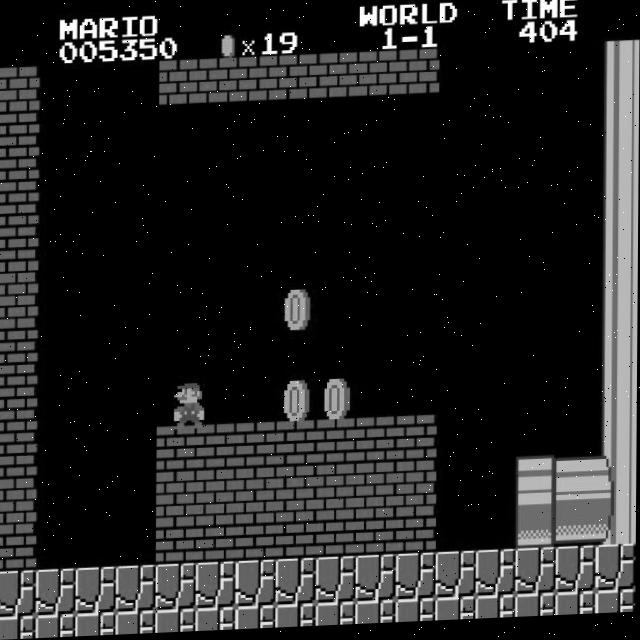1- brick_block: (236, 470, 278, 518), (316, 467, 358, 515), (156, 473, 198, 520), (196, 472, 238, 519), (276, 469, 318, 516), (356, 466, 398, 513), (396, 465, 438, 512), (159, 61, 200, 109), (156, 518, 197, 566), (199, 60, 240, 108), (196, 517, 237, 565), (279, 57, 320, 105), (276, 514, 317, 562), (399, 53, 440, 101), (396, 510, 437, 558), (157, 427, 198, 474), (197, 426, 238, 473), (239, 59, 280, 106), (236, 516, 277, 563), (277, 423, 318, 470), (319, 56, 360, 103), (316, 513, 357, 560), (359, 55, 400, 102), (356, 512, 397, 559), (397, 419, 438, 466), (237, 425, 278, 471), (317, 422, 358, 468), (357, 421, 398, 467), (0, 67, 40, 114), (0, 204, 39, 251), (0, 250, 39, 297), (0, 113, 39, 159), (0, 159, 39, 205), (0, 341, 38, 388), (0, 387, 38, 434), (0, 296, 38, 342), (0, 524, 37, 571), (0, 433, 37, 479), (0, 479, 37, 525)
11- little_mario: (167, 382, 211, 431)
14- pipe: (556, 459, 598, 506), (598, 46, 640, 93), (597, 229, 639, 276), (596, 366, 638, 413), (556, 505, 597, 552), (598, 183, 639, 230), (597, 320, 638, 367), (596, 503, 637, 550), (598, 92, 639, 138), (598, 138, 639, 184), (597, 275, 638, 321), (596, 412, 637, 458), (596, 458, 637, 504)
15- pipe_head: (516, 460, 558, 508), (516, 506, 557, 553)
17- undestructible_block: (595, 549, 637, 596), (76, 567, 117, 615), (156, 564, 197, 612), (196, 563, 237, 611), (276, 560, 317, 608), (396, 556, 437, 604), (476, 553, 517, 601), (36, 569, 77, 616), (116, 566, 157, 613), (236, 562, 277, 609), (316, 559, 357, 606), (356, 558, 397, 605), (436, 555, 477, 602), (516, 552, 557, 599), (556, 551, 597, 598), (0, 570, 37, 617), (36, 614, 77, 639), (116, 611, 157, 636), (236, 607, 277, 632), (316, 604, 357, 629), (436, 600, 477, 625), (516, 597, 557, 622), (76, 613, 117, 637), (156, 610, 197, 634), (196, 609, 237, 633), (276, 606, 317, 630), (356, 603, 397, 627), (396, 602, 437, 626), (476, 599, 517, 623), (556, 596, 597, 620), (595, 595, 636, 618), (0, 616, 36, 639)
2- coin: (277, 377, 318, 425), (278, 286, 319, 333), (317, 376, 358, 423)
